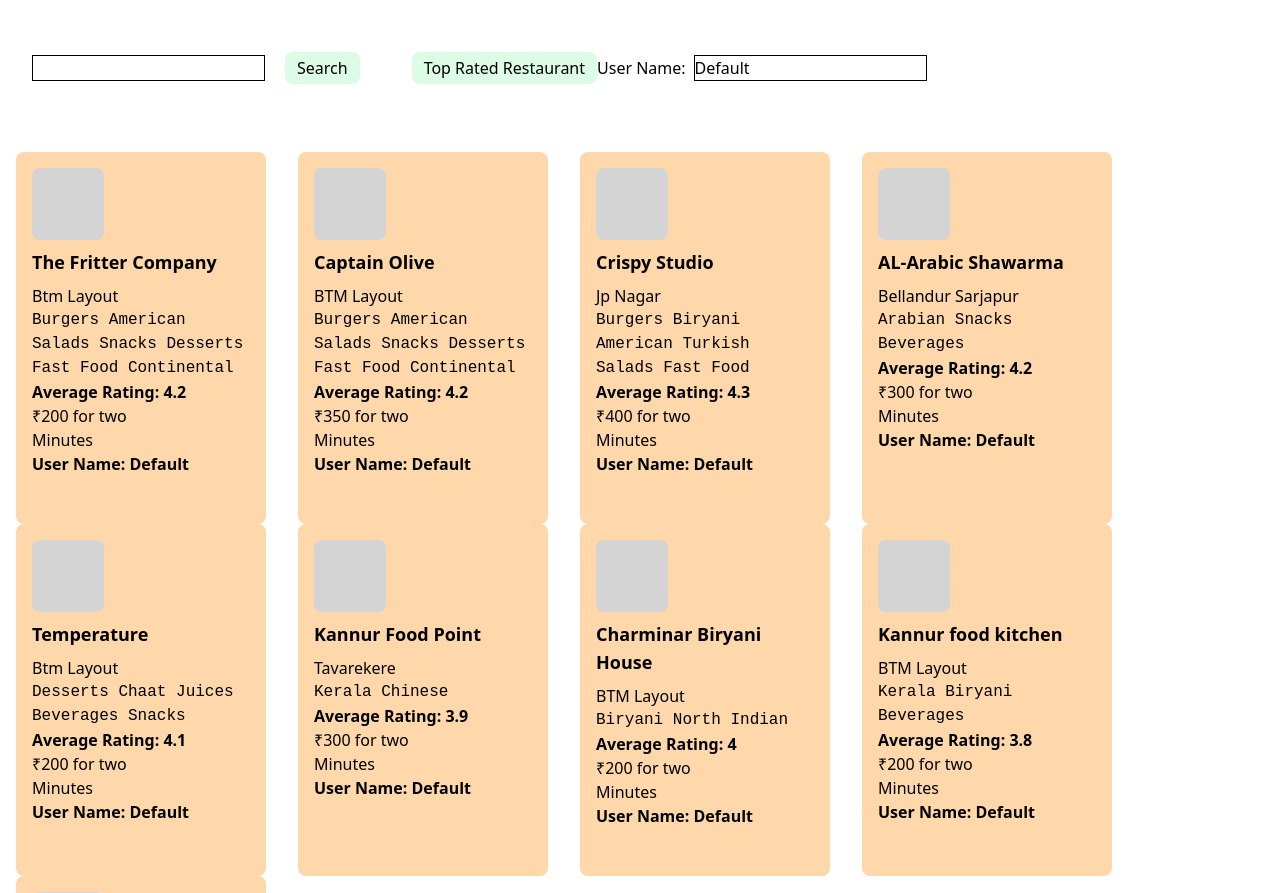
Should Search Res List for Food text input
This screenshot has width=1280, height=893.
Type "Food" into the field with test id "searchInput".
click(148, 68); type("Food")  # box top-left (32, 55), bottom-right (265, 81)
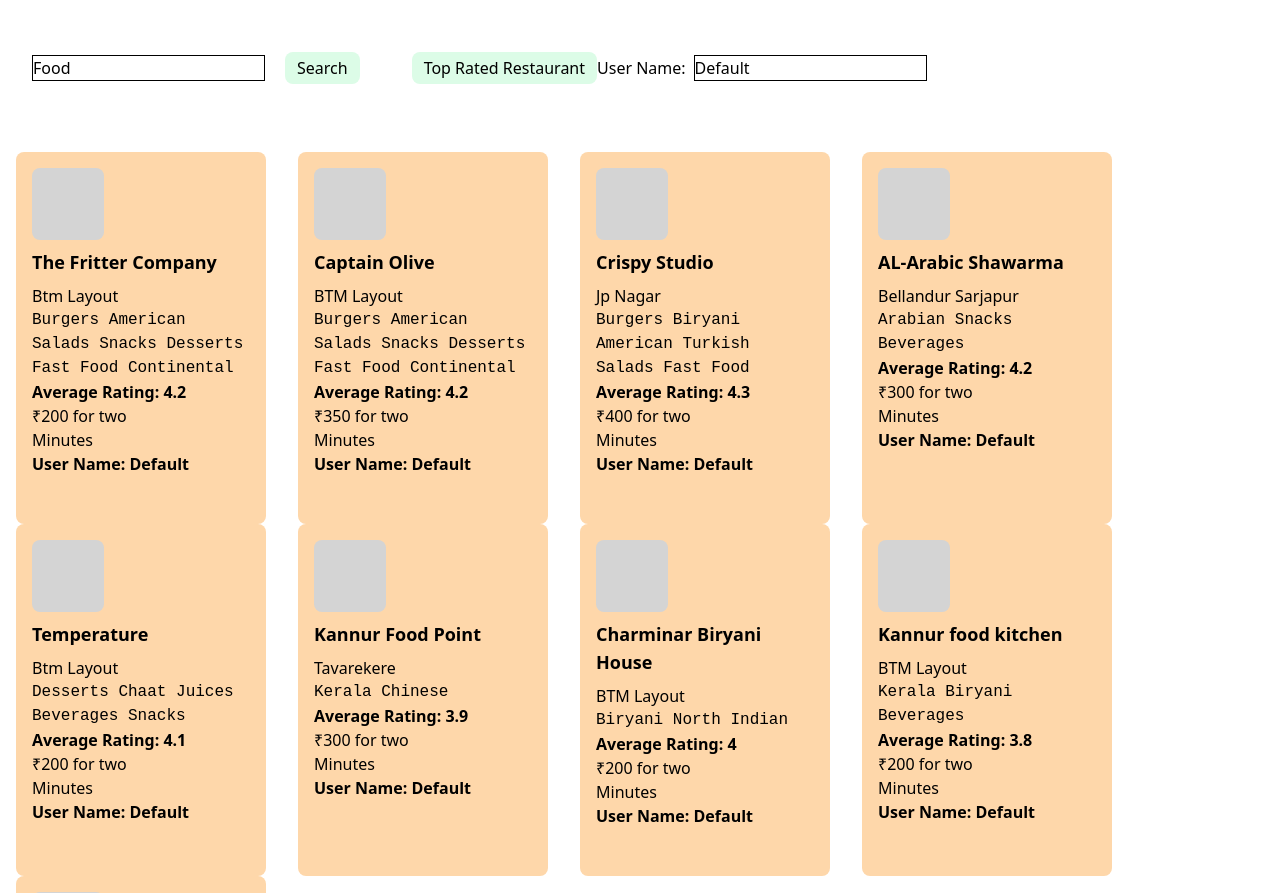
Click the button "Search".
click(322, 68)  # box top-left (285, 52), bottom-right (360, 84)
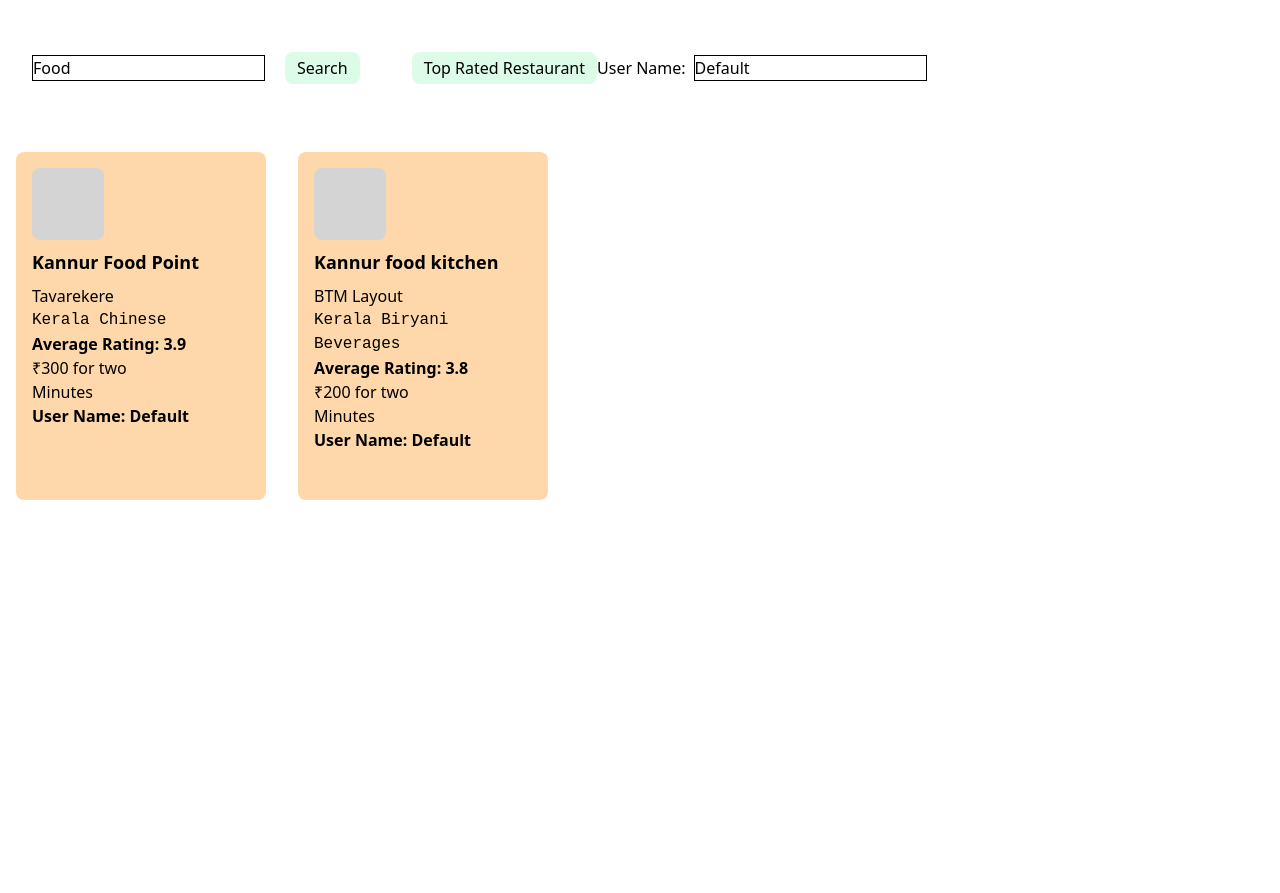
Expected: the number of elements with test id "resCard" is 2, top-left (16, 152), bottom-right (266, 500); top-left (298, 152), bottom-right (548, 500)
